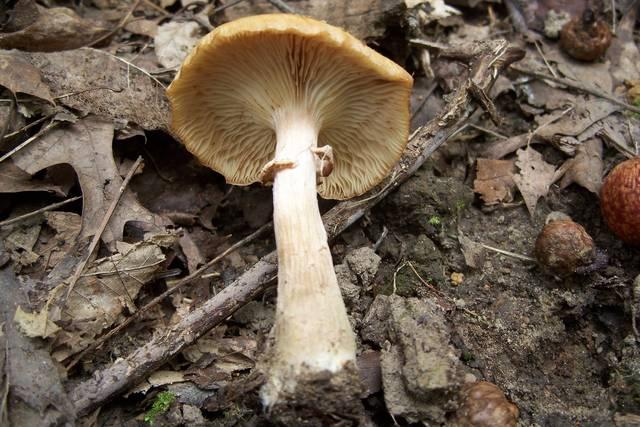edible_mushroom: (163, 11, 414, 406)
